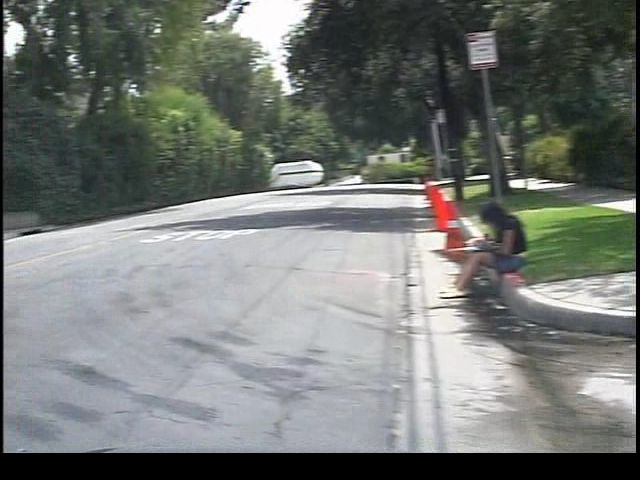person: (420, 195, 517, 300)
